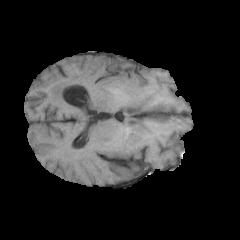glioma: (51, 57, 161, 110)
